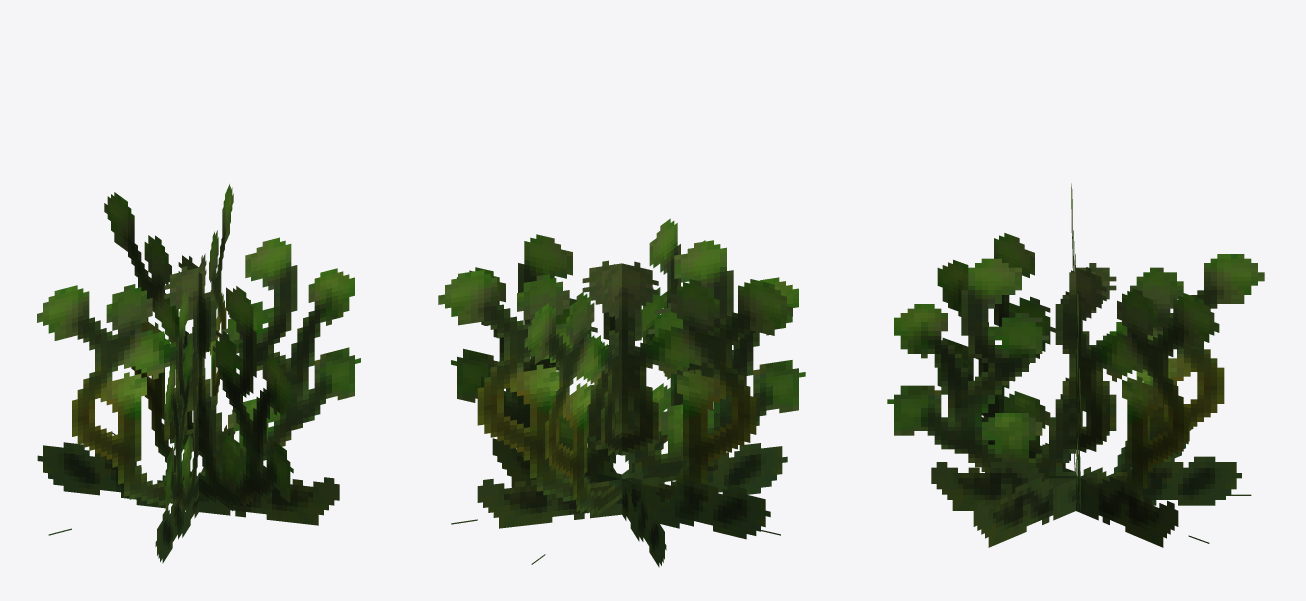
The model's file is flower_3.fbx.
The picture shows the model from 3 angles, left to right: view 1: azimuth 30°, elevation 25°; view 2: azimuth 150°, elevation 25°; view 3: azimuth 270°, elevation 25°; orthographic projection. The views are drawn at different scales.
Parts seen in each view (by area): view 1: flower3; view 2: flower3; view 3: flower3.
Part boxes in pixels (x1,y1,x2,y2): flower3: (37,184,360,563); flower3: (438,218,805,567); flower3: (887,183,1264,547).
Size of the model in its own units: 115 by 120 by 115.
